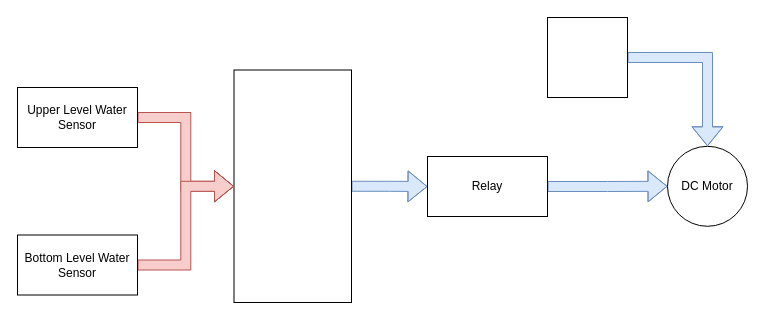
The diagram is 765 pixels wide and 320 high, and some of its shapes have lost their labels. Here are the shapes that lost their labels. From the top down, the centre of each, then its label:
At point (587, 57): "Power Source".
At point (292, 185): "Atmega328 Microcontroller".
